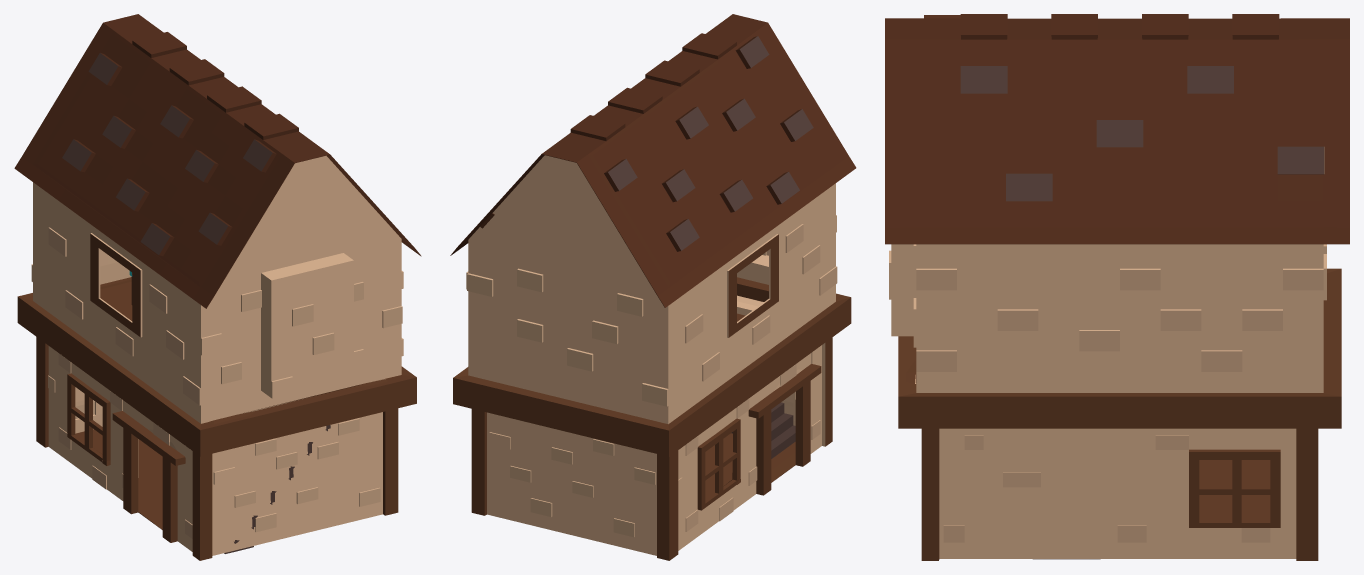
Rendered from House_1.fbx.
3 views of the same model, side by side, from view 1: azimuth 30°, elevation 25°; view 2: azimuth 150°, elevation 25°; view 3: azimuth 270°, elevation 25° (orthographic). The views are drawn at different scales.
Visible parts, largest first — view 1: Cube.002; view 2: Cube.002; view 3: Cube.002.
Part boxes in pixels (<box>): Cube.002: <box>14,14,421,560</box>; Cube.002: <box>450,14,856,560</box>; Cube.002: <box>885,14,1349,560</box>.
Size of the model in its own units: 609 by 1061 by 934.
